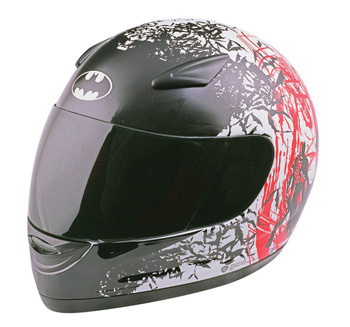helmet: (48, 18, 318, 275)
